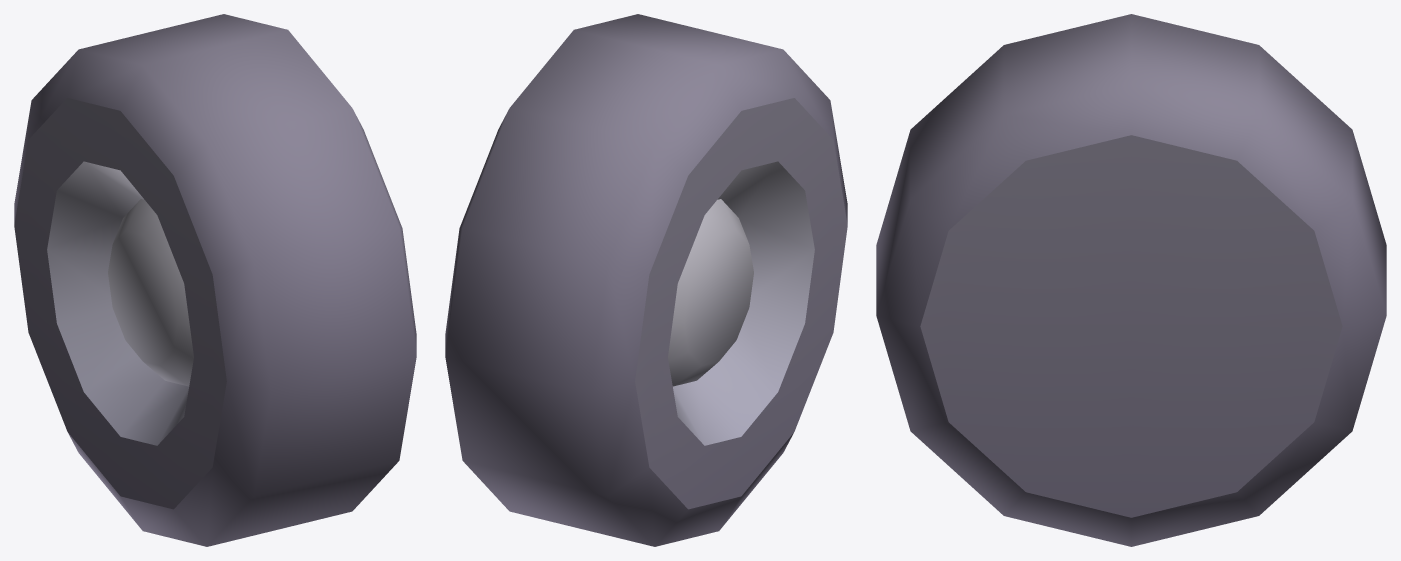
File: car-wheel-vertical.glb
3 renders of one model, left to right at view 1: azimuth 30°, elevation 25°; view 2: azimuth 150°, elevation 25°; view 3: azimuth 270°, elevation 25°, orthographic.
Visible parts, largest first — view 1: car-wheel-vertical; view 2: car-wheel-vertical; view 3: car-wheel-vertical.
Part boxes in pixels (<box>): car-wheel-vertical: <box>14,14,416,546</box>; car-wheel-vertical: <box>445,14,847,546</box>; car-wheel-vertical: <box>876,14,1386,546</box>.
Size of the model in its own units: 0.2789 by 0.654 by 0.654.
